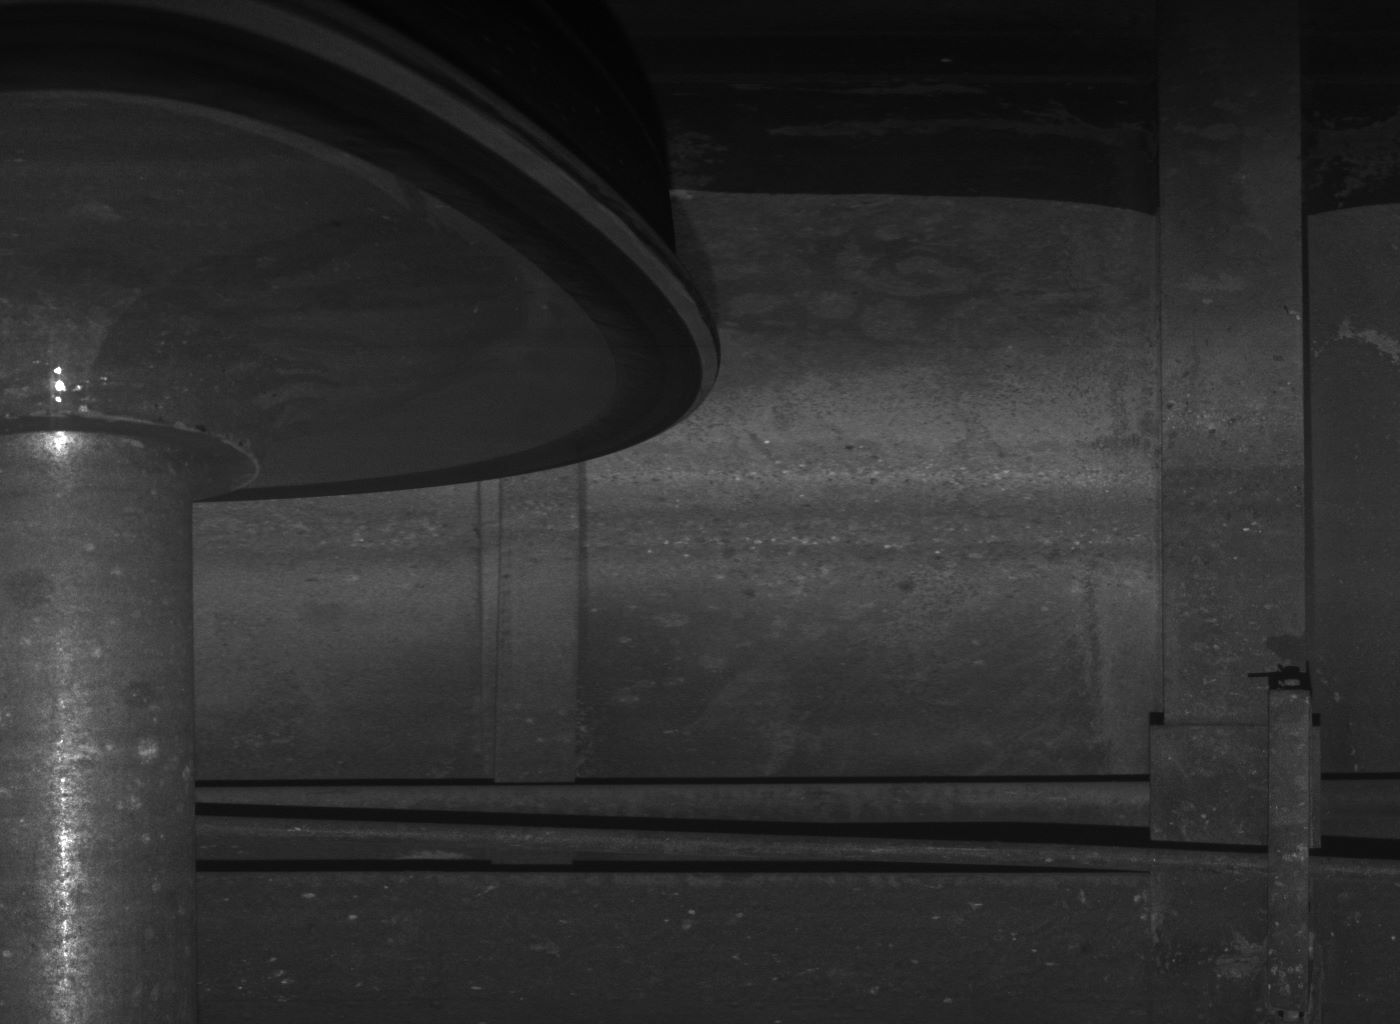normal: (1266, 671, 1311, 1012)
